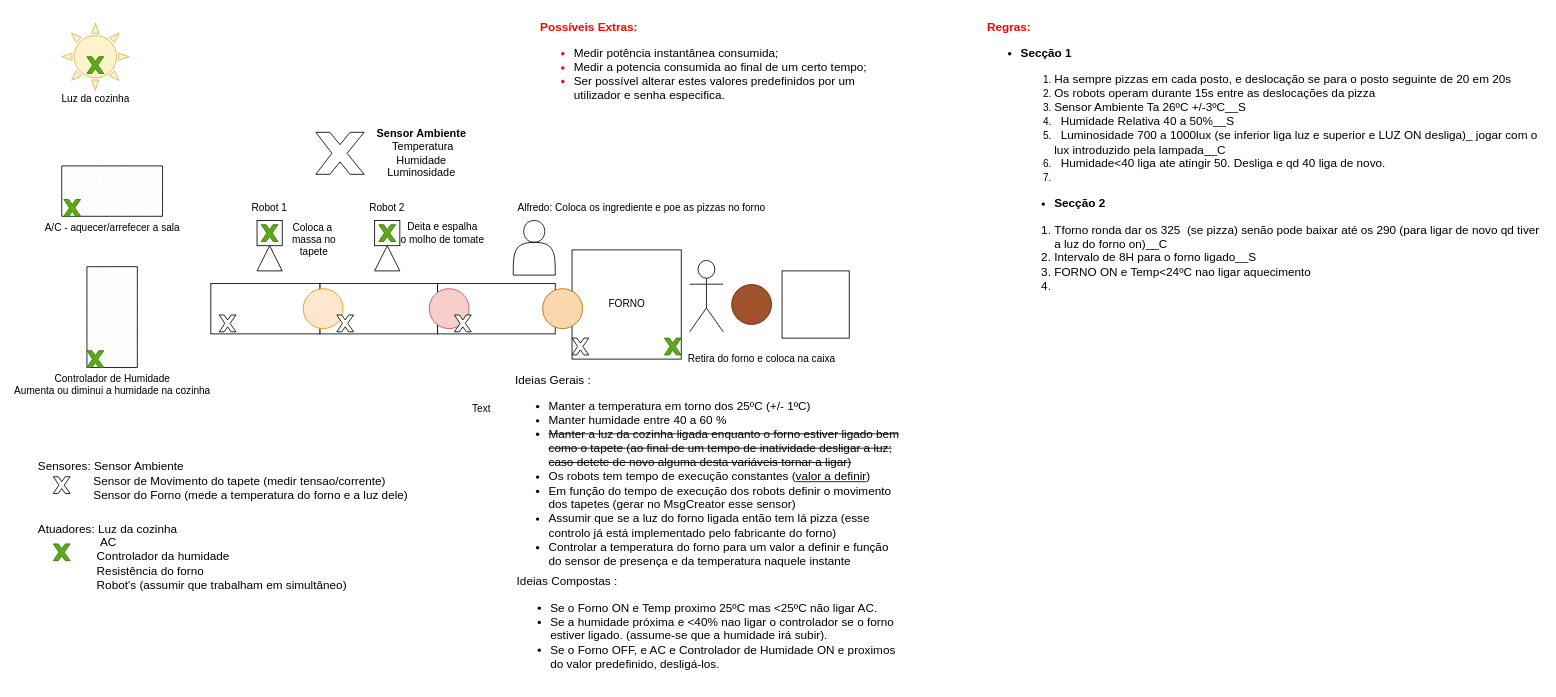
This 1556x697 diagram has some shape labels left out. Here are the shapes that lost their labels. From the top down, the centre of each, then its label:
At point (706, 296): "Jeremias".
At point (815, 304): "Caixa da Pizza".
